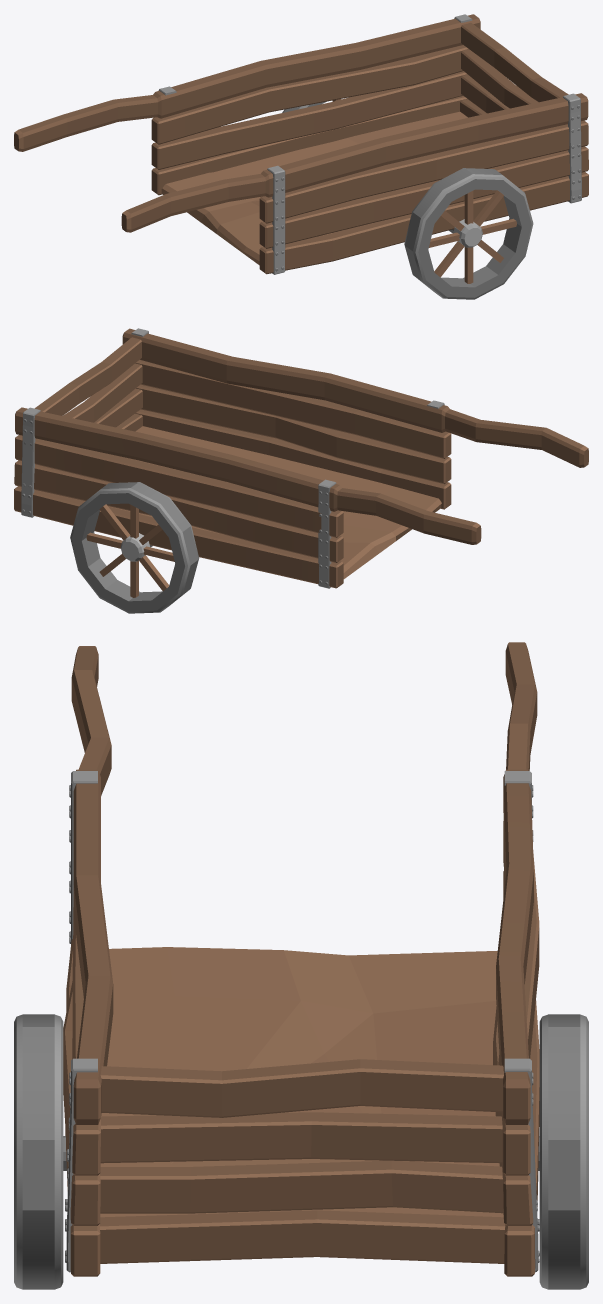
The model's file is Wood Cart.fbx.
The picture shows the model from 3 angles, top to bottom: view 1: azimuth 30°, elevation 25°; view 2: azimuth 150°, elevation 25°; view 3: azimuth 270°, elevation 25°; orthographic projection. The views are drawn at different scales.
Parts seen in each view (by area): view 1: Cart, Wheel_L; view 2: Cart, Wheel_R; view 3: Cart, Wheel_L, Wheel_R.
Boxes of the visible parts, x1,y1,x2,y2 form: Cart: [14, 14, 588, 274]; Wheel_L: [404, 168, 533, 299]; Cart: [14, 328, 588, 588]; Wheel_R: [70, 482, 199, 613]; Cart: [63, 642, 539, 1276]; Wheel_L: [14, 1014, 63, 1289]; Wheel_R: [539, 1014, 588, 1289].
Size of the model in its own units: 482 by 166 by 261.
